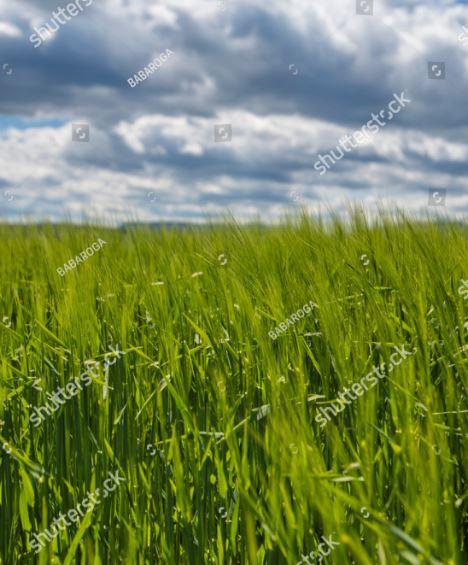Wheat: (135, 315, 358, 541)
